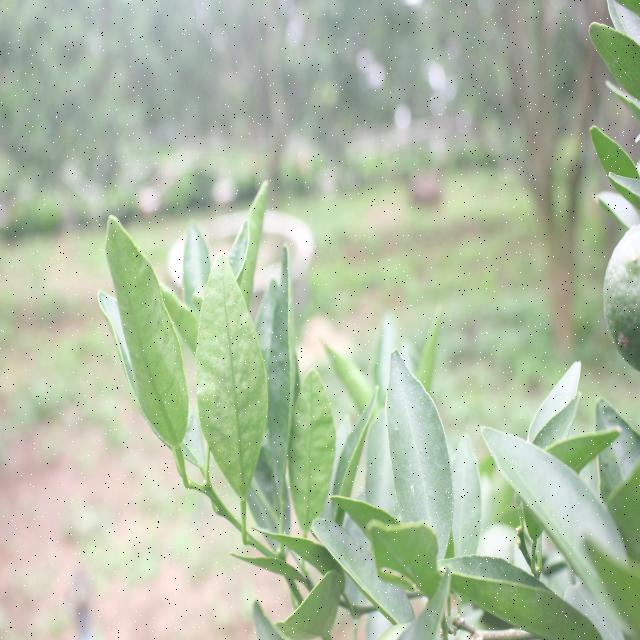blackspot: (200, 279, 263, 475), (384, 374, 452, 527)
